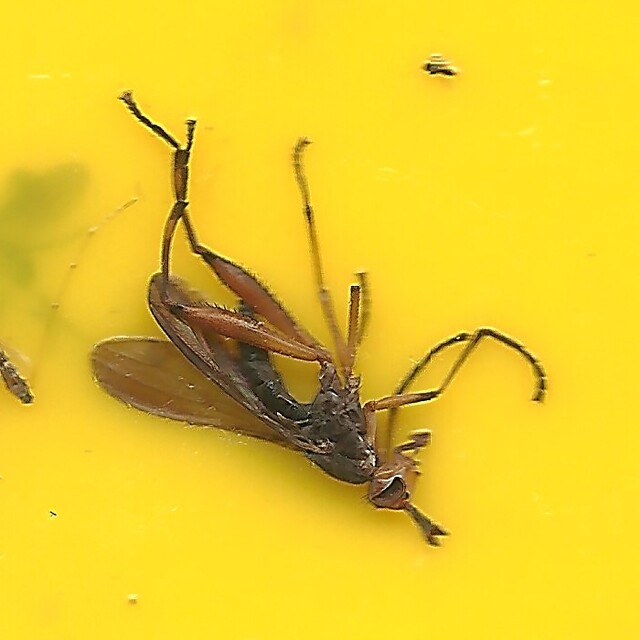Hymenoptera: (91, 92, 549, 548)
